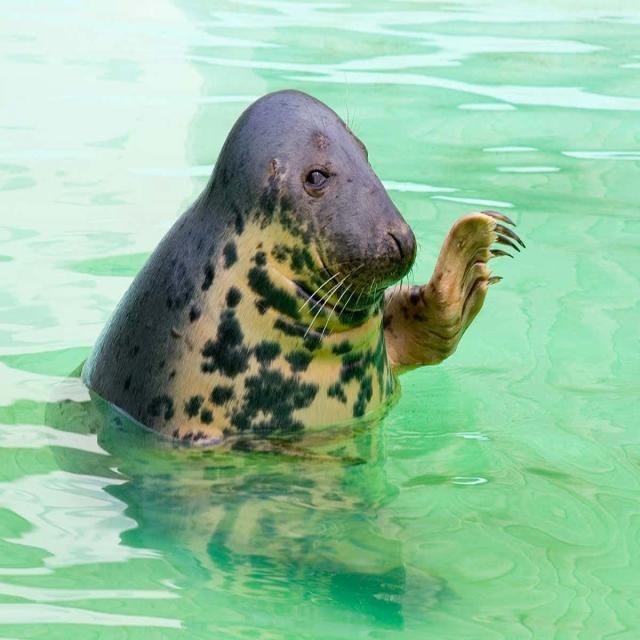seal: (83, 90, 523, 451)
